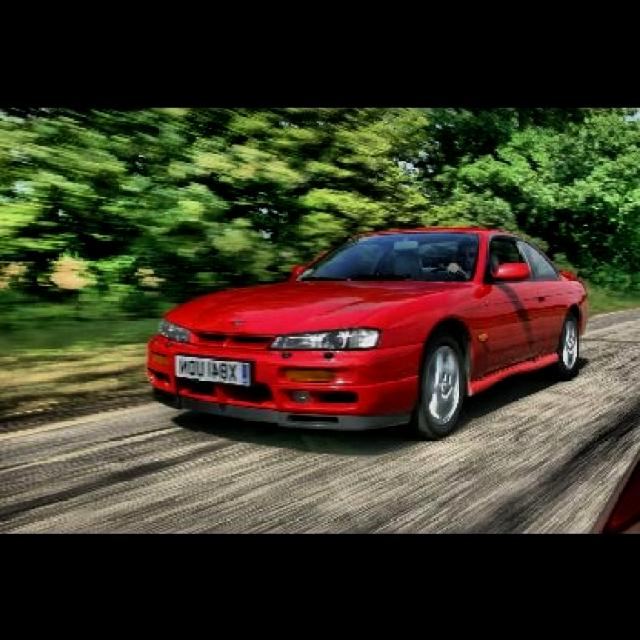red: (146, 224, 586, 434)
